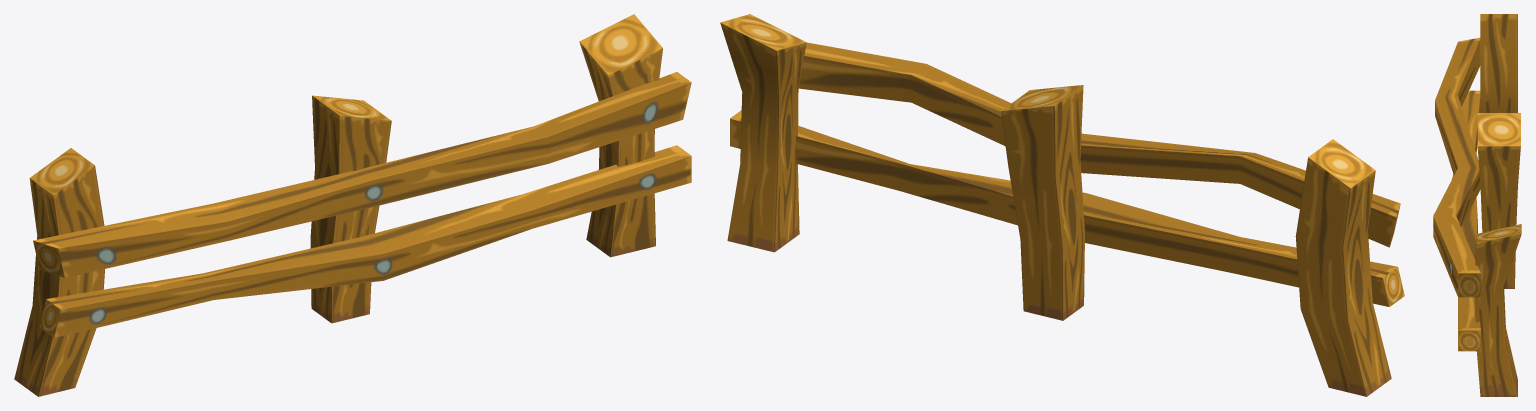
The model's file is cerca02.FBX.
The picture shows the model from 3 angles, left to right: view 1: azimuth 30°, elevation 25°; view 2: azimuth 150°, elevation 25°; view 3: azimuth 270°, elevation 25°; orthographic projection. The views are drawn at different scales.
Visible parts, largest first — view 1: madeira01, madeira02, poste01, poste03, poste02; view 2: madeira01, madeira02, poste01, poste02, poste03; view 3: madeira01, poste03, poste02, poste01, madeira02.
Part boxes in pixels (x1,y1,x2,y2): madeira01: [33, 72, 691, 277]; madeira02: [40, 145, 691, 337]; poste01: [14, 148, 104, 396]; poste03: [579, 14, 662, 257]; poste02: [310, 95, 391, 323]; madeira01: [798, 42, 1400, 247]; madeira02: [730, 110, 1404, 306]; poste01: [1295, 139, 1391, 396]; poste02: [1001, 85, 1084, 320]; poste03: [720, 14, 806, 252]; madeira01: [1433, 37, 1480, 297]; poste03: [1474, 224, 1521, 396]; poste02: [1477, 113, 1520, 288]; poste01: [1480, 14, 1517, 112]; madeira02: [1451, 90, 1480, 351].
Bounding box in the file's own units: 253 × 81.62 × 38.62.
